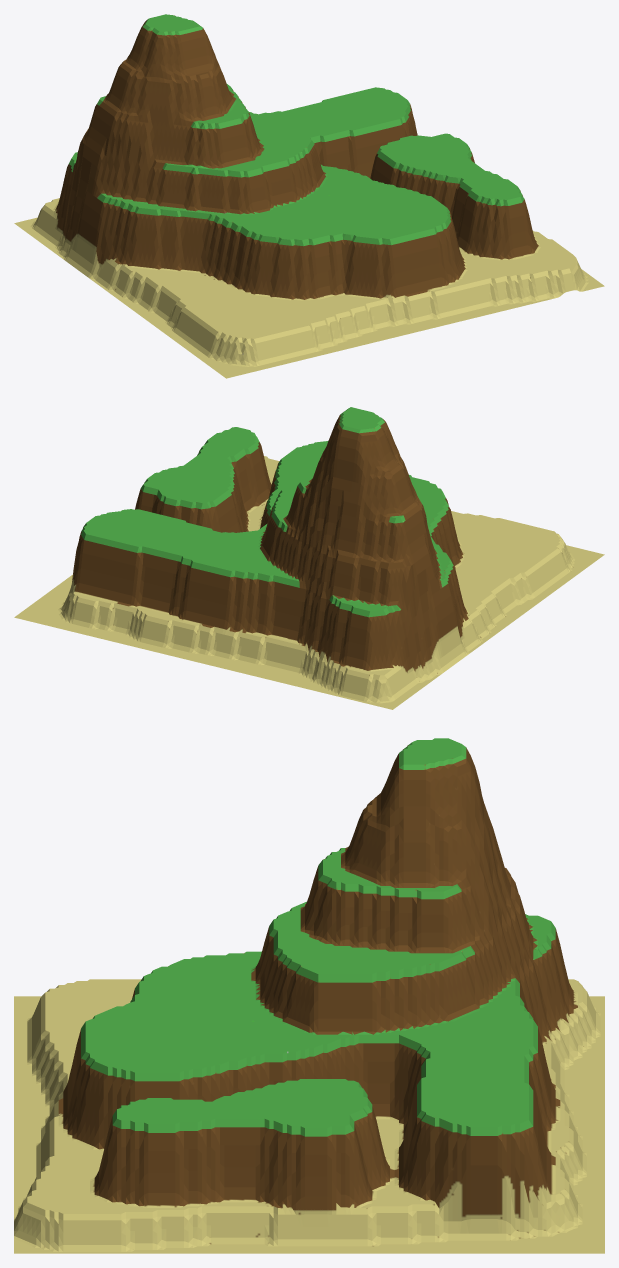
File: QuietIslandTerrain.fbx
3 renders of one model, top to bottom at view 1: azimuth 30°, elevation 25°; view 2: azimuth 150°, elevation 25°; view 3: azimuth 270°, elevation 25°, orthographic. The views are drawn at different scales.
Parts seen in each view (by area): view 1: Plane.002; view 2: Plane.002; view 3: Plane.002.
Part boxes in pixels (x1,y1,x2,y2): Plane.002: (14, 14, 604, 378); Plane.002: (14, 407, 604, 709); Plane.002: (14, 738, 604, 1253).
Size of the model in its own units: 10625 by 5955 by 10312.
